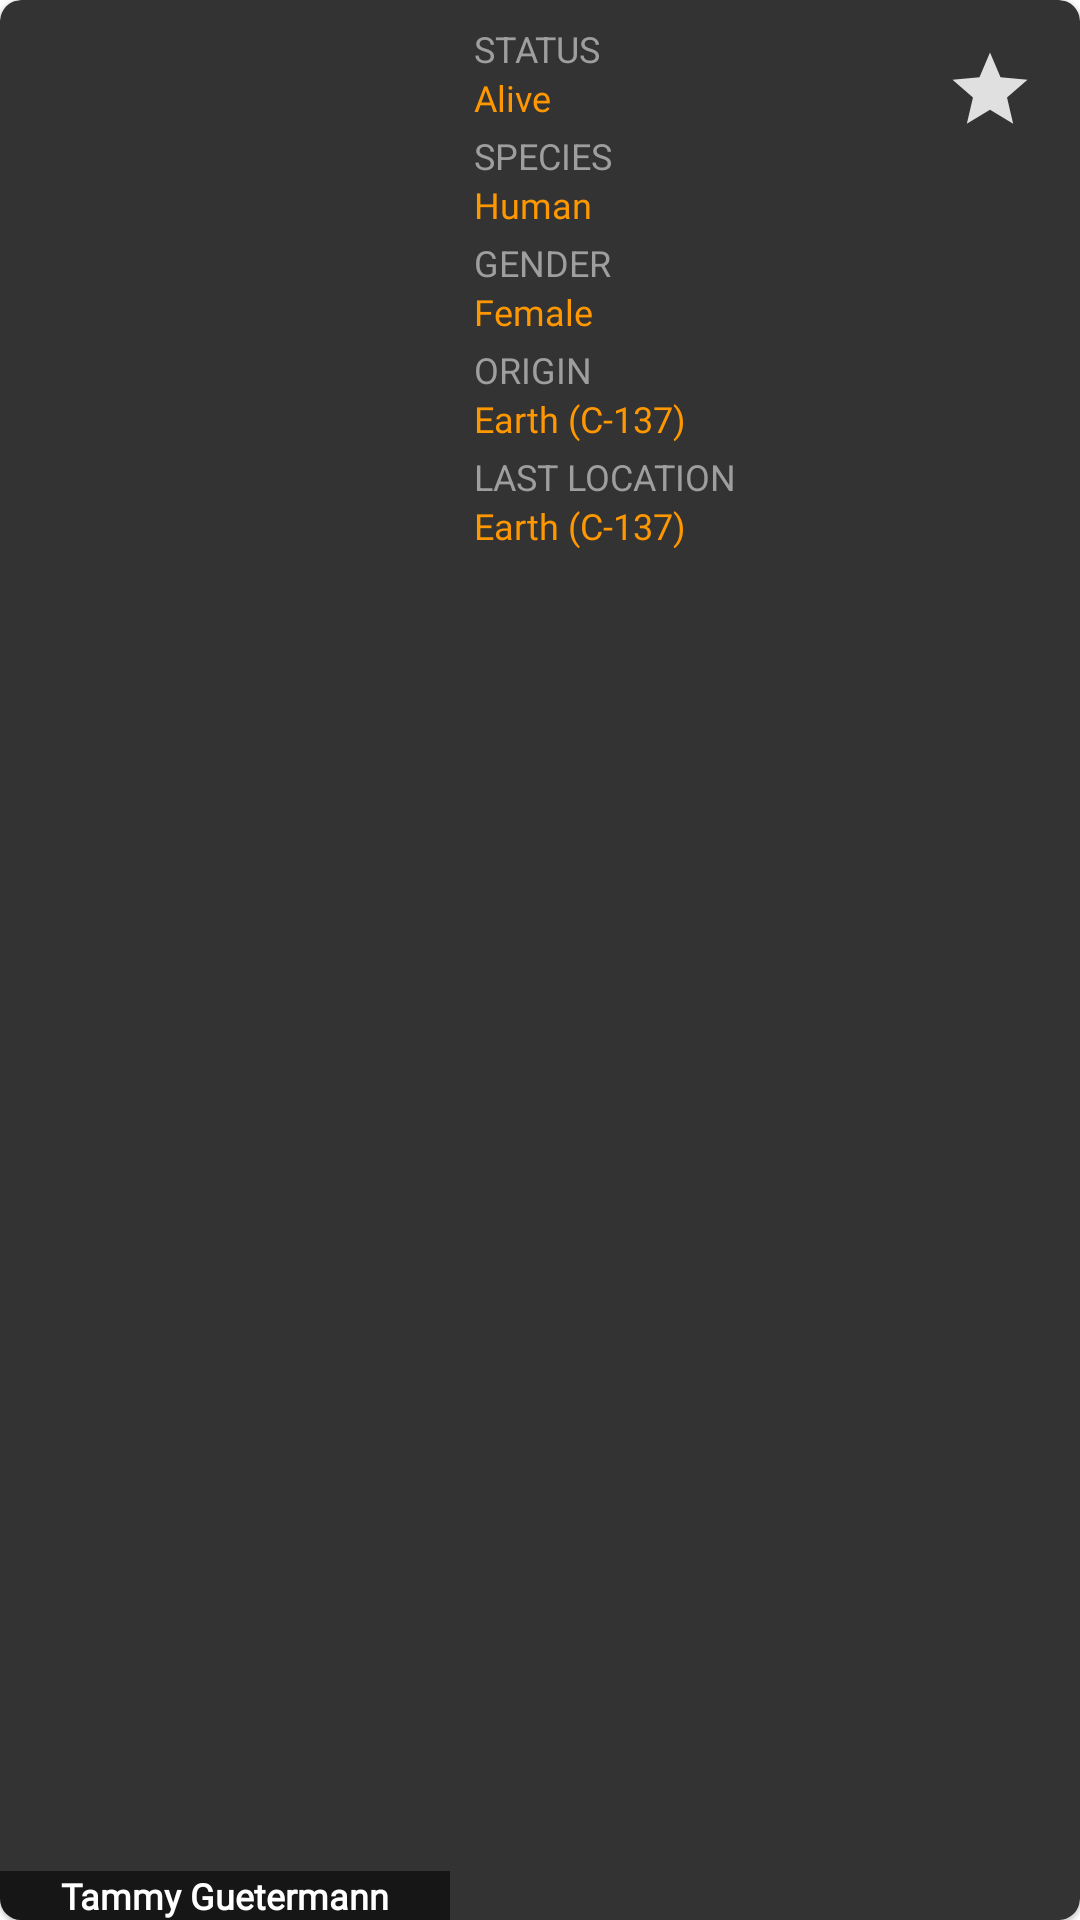

Screen size 1080px×1920px. Icon name, then its center in pixels as point (x, y):
star: point (990, 88)
